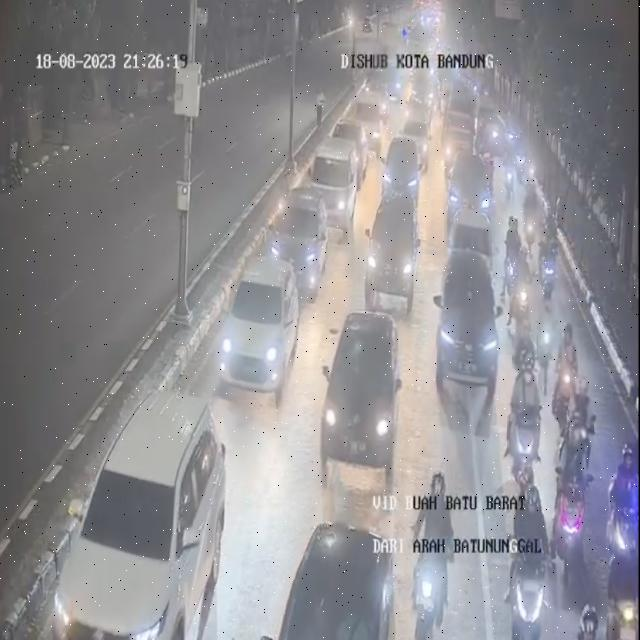cars: (42, 398, 234, 640), (314, 316, 409, 478), (291, 518, 393, 640), (210, 252, 288, 399), (437, 240, 505, 404), (370, 185, 422, 313), (280, 177, 325, 297), (445, 136, 493, 222), (311, 130, 352, 229), (444, 196, 492, 274), (384, 133, 425, 207), (336, 112, 369, 180), (349, 94, 386, 153), (396, 100, 430, 164), (374, 48, 404, 106), (404, 59, 434, 105)
motorcycle: (404, 463, 450, 635), (509, 477, 551, 640), (558, 406, 590, 571), (606, 435, 640, 548), (507, 346, 537, 470), (610, 520, 640, 640), (552, 312, 578, 407), (510, 245, 535, 319), (570, 373, 594, 447), (538, 298, 558, 386), (518, 183, 542, 241), (500, 212, 520, 274), (544, 222, 559, 294), (512, 312, 531, 368), (501, 146, 515, 205), (517, 134, 533, 184)
truck: (441, 87, 473, 169)
